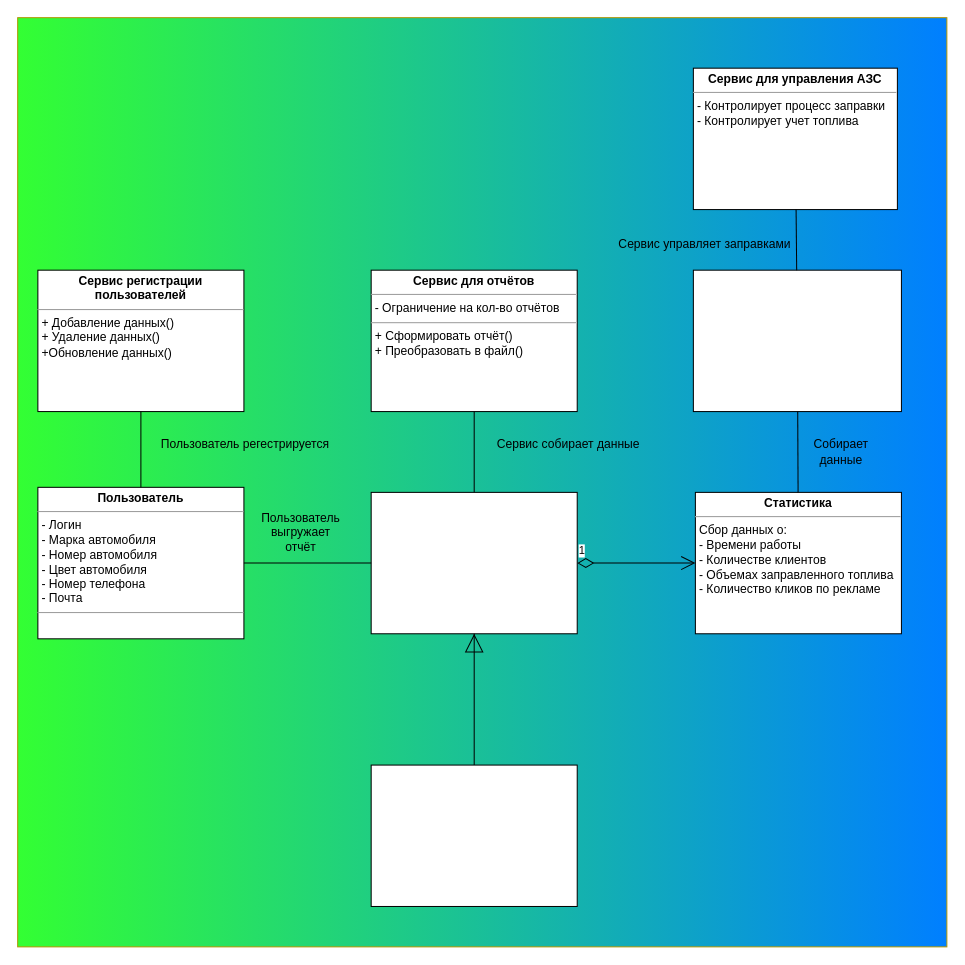
Some shapes in this 965 by 965 pixel diagram are drawn without their labels. The shapes that lost their labels are listed below. From the top down, each one's box as (x1, y1, x2, y2) in pixels, then its label:
(692, 269, 901, 412): Реклама - Длительность - Кол-во за час - Стоимость - Текст
(370, 491, 577, 634): Отчёт - Название - Время выгрузки - Рекламодатель
(370, 764, 577, 906): Отчёт по доходам - Доход
